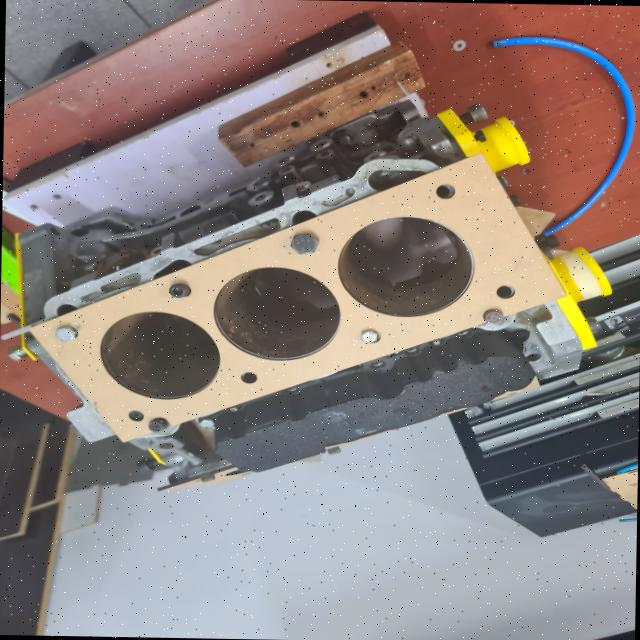tor_v1: (31, 154, 565, 440)
